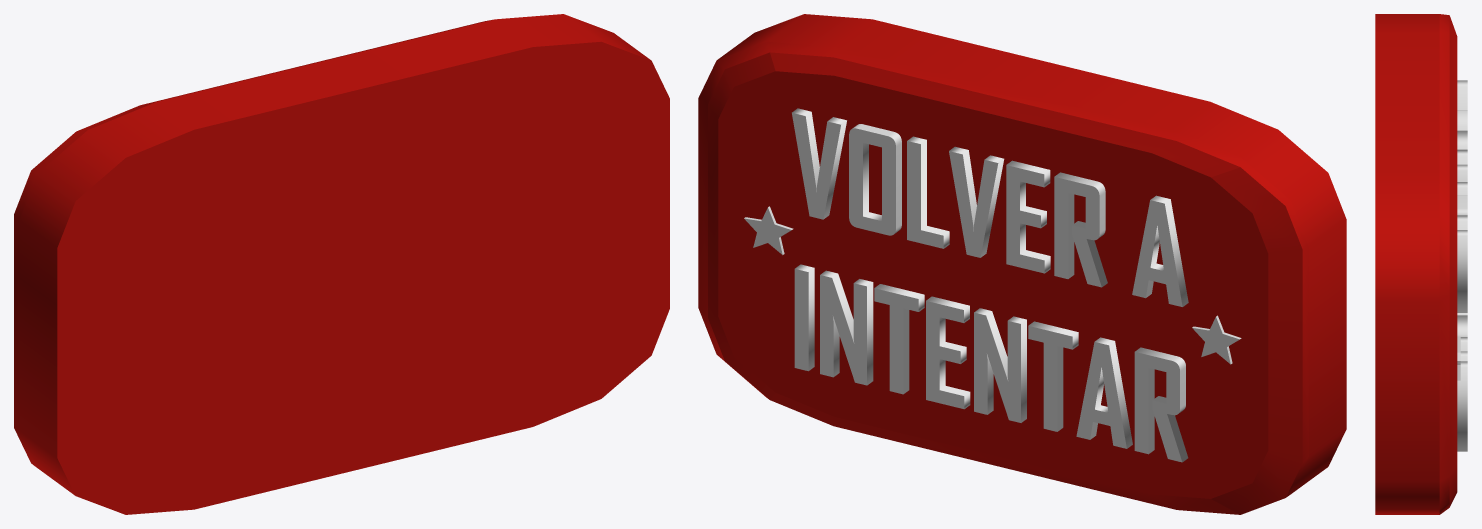
The model's file is volveraintentarboton.fbx.
The picture shows the model from 3 angles, left to right: view 1: azimuth 30°, elevation 25°; view 2: azimuth 150°, elevation 25°; view 3: azimuth 270°, elevation 25°; orthographic projection. The views are drawn at different scales.
Parts seen in each view (by area): view 1: Text.005; view 2: Text.005; view 3: Text.005.
Boxes of the visible parts, x1,y1,x2,y2 form: Text.005: (14,14,669,514); Text.005: (698,14,1346,514); Text.005: (1375,14,1467,514).
Size of the model in its own units: 95.74 by 56.73 by 14.7.
